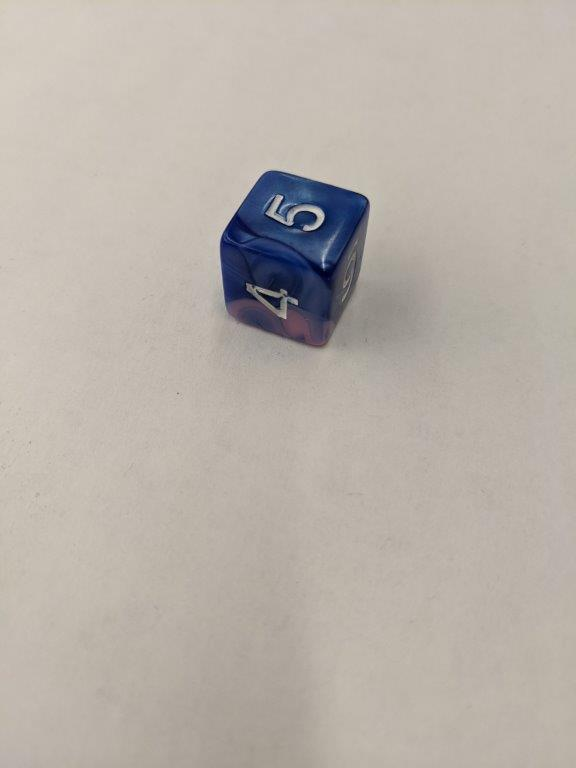d6-5: (218, 169, 369, 347)
